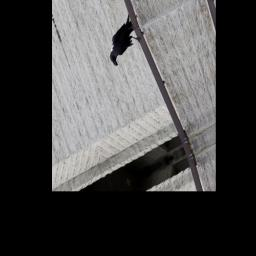Crow: (99, 9, 149, 70)
